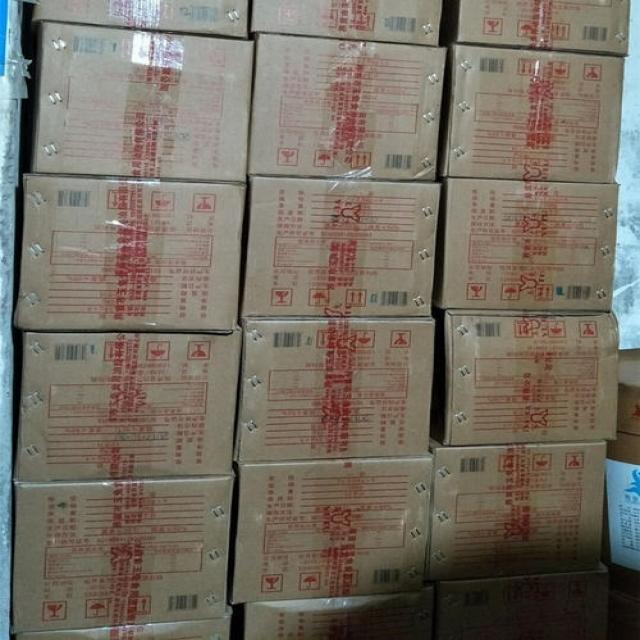box: (13, 173, 246, 335), (31, 22, 255, 182), (10, 476, 236, 634), (13, 326, 242, 481), (232, 455, 433, 604), (236, 315, 435, 463), (248, 34, 448, 180), (241, 176, 443, 316), (425, 437, 607, 582), (438, 45, 626, 182), (431, 309, 621, 444), (434, 181, 621, 311), (436, 562, 609, 640), (440, 0, 630, 56), (244, 585, 434, 640), (602, 348, 640, 599), (251, 0, 443, 45), (31, 0, 248, 38), (15, 606, 233, 640)
